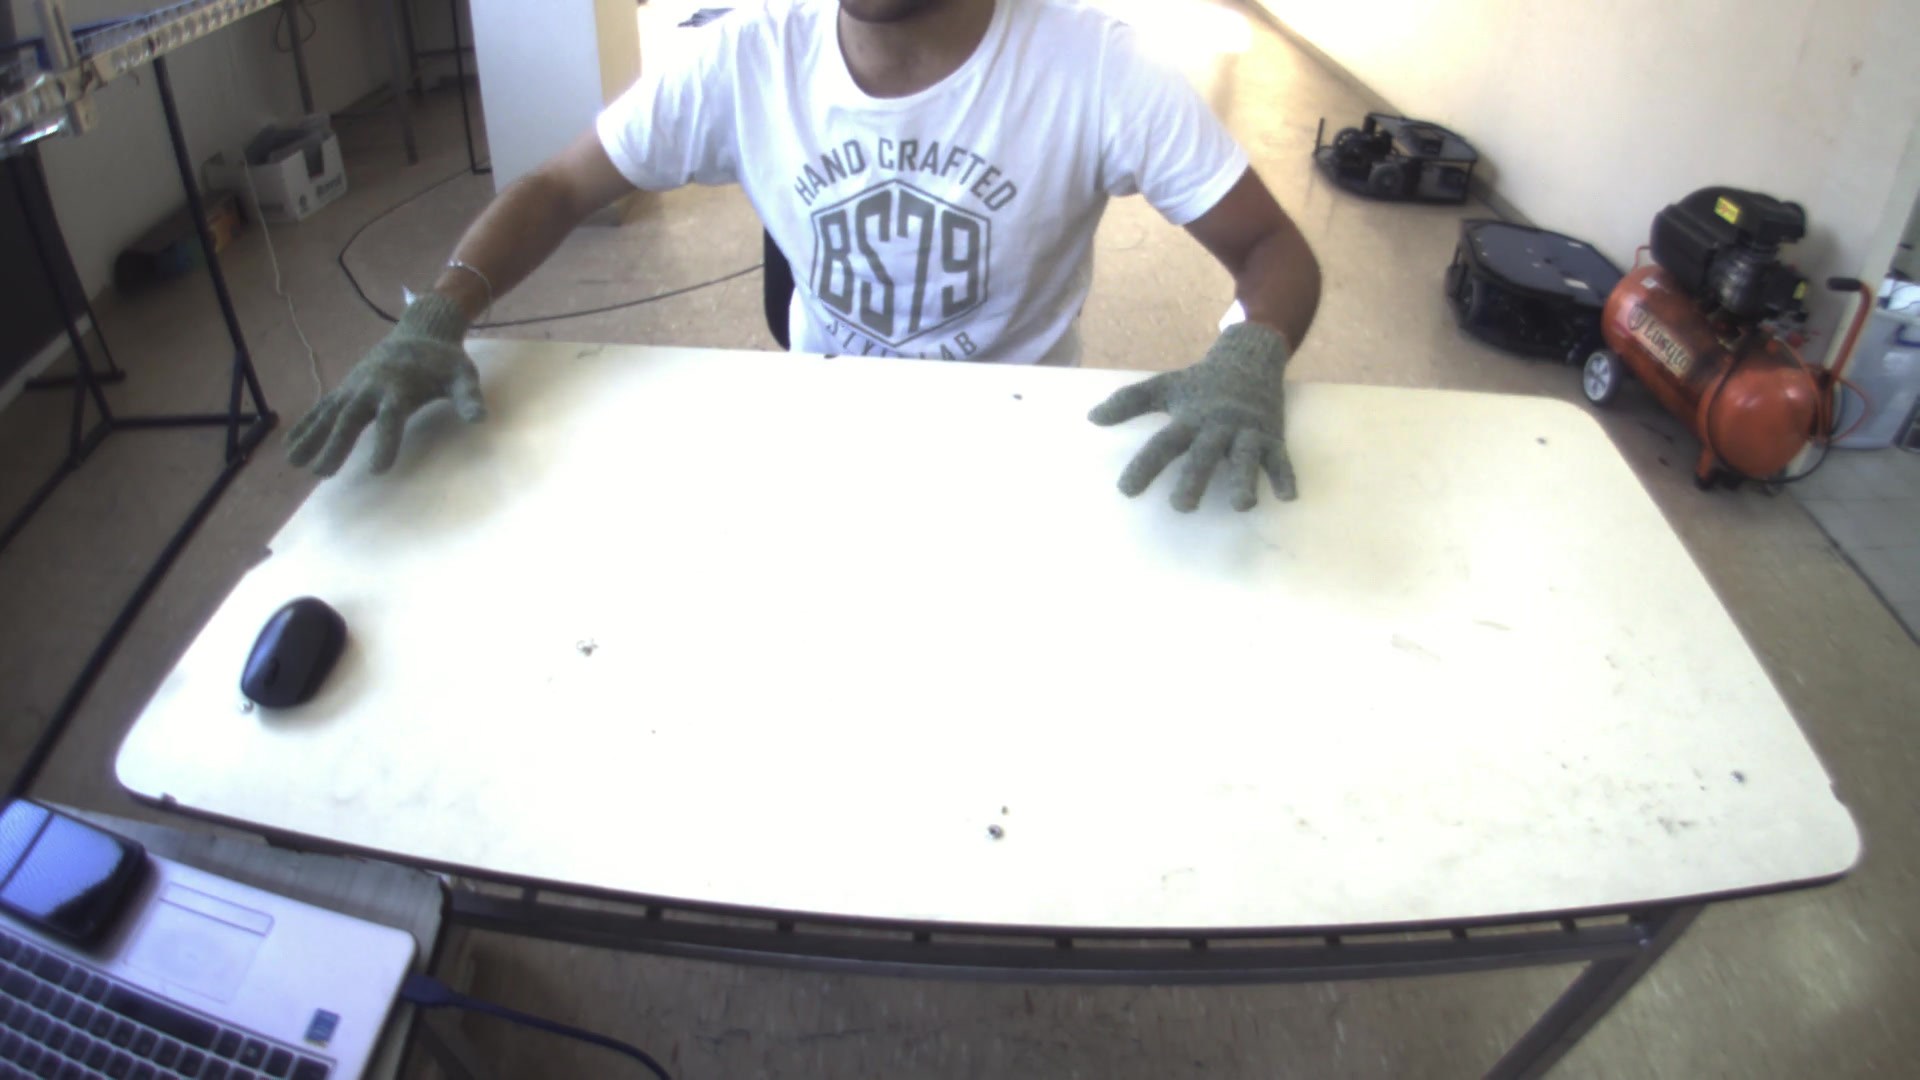hand: (1084, 316, 1311, 518), (272, 273, 483, 483)
